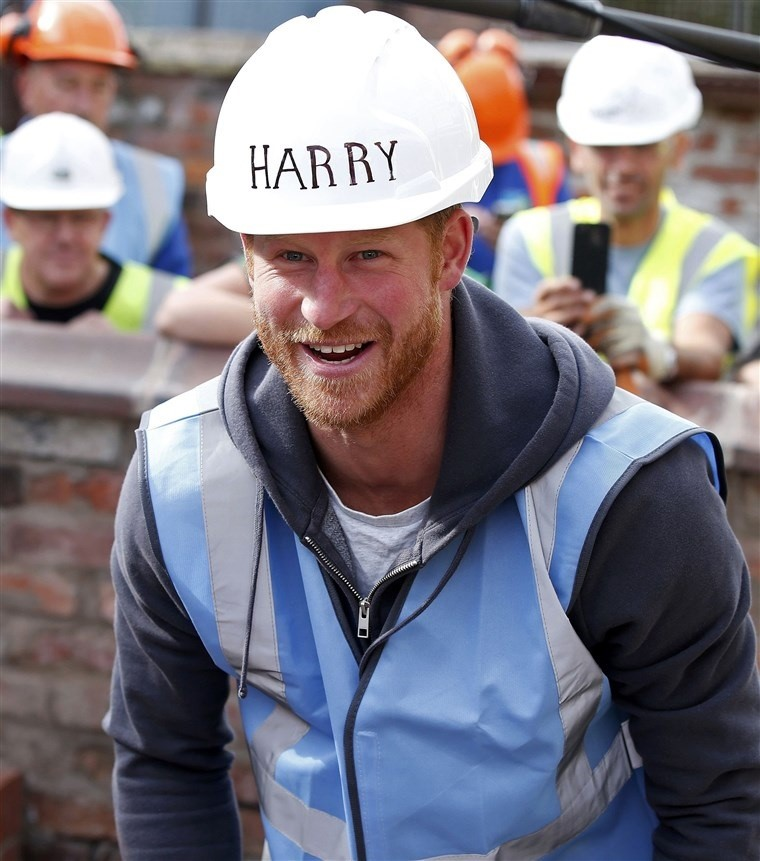face_no_mask: (236, 176, 458, 414), (14, 187, 108, 291), (584, 119, 673, 228)
